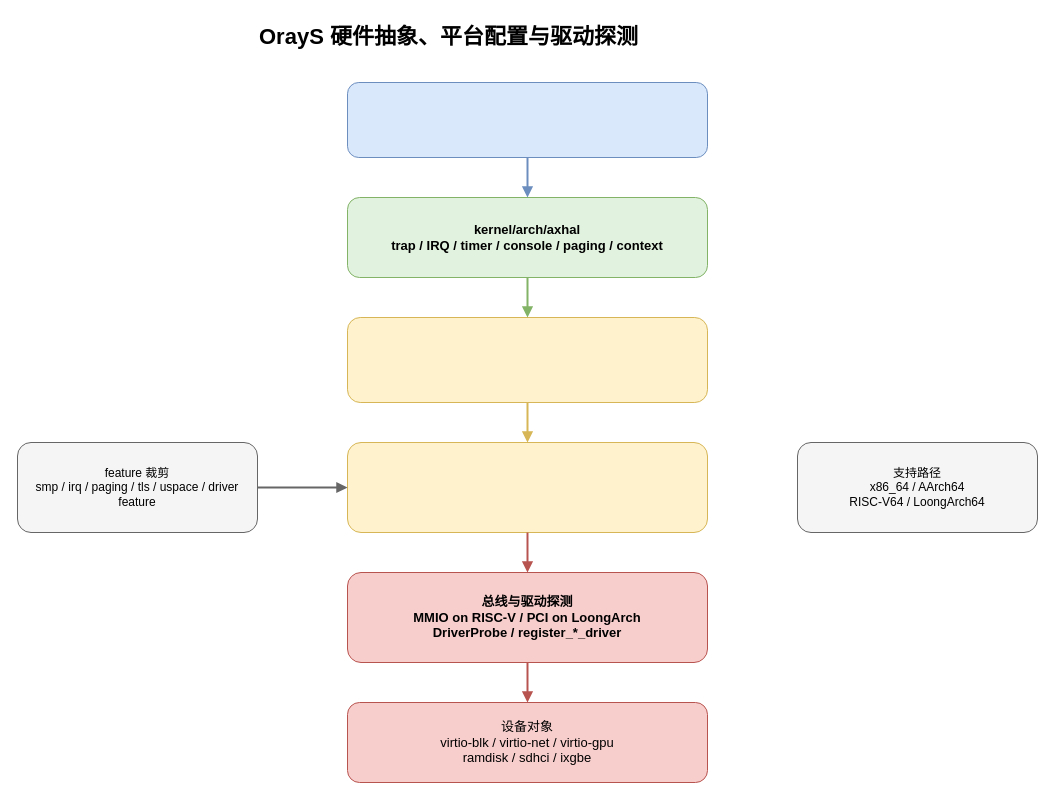
This 1055x800 diagram has some shape labels left out. Each missing label, with the centre of its shape:
"axcpu TrapFrame / TaskContext / UspaceContext 架构 CPU 细节" goes at (x=527, y=359).
"axplat-* + axconfig 平台 TOML / 启动地址 / 中断控制器 / 总线 / 内存布局" goes at (x=527, y=487).
"内核模块调用硬件能力 runtime / task / mm / fs / net / driver" goes at (x=527, y=120).
